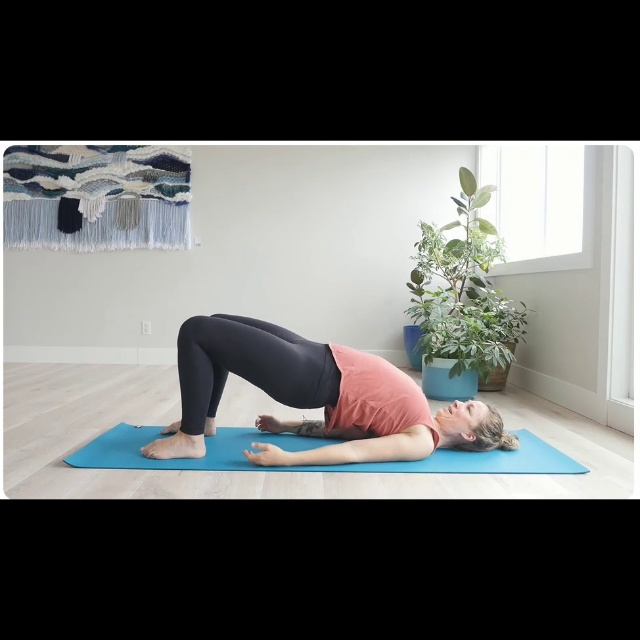Bridge_Pose: (140, 295, 522, 477)
